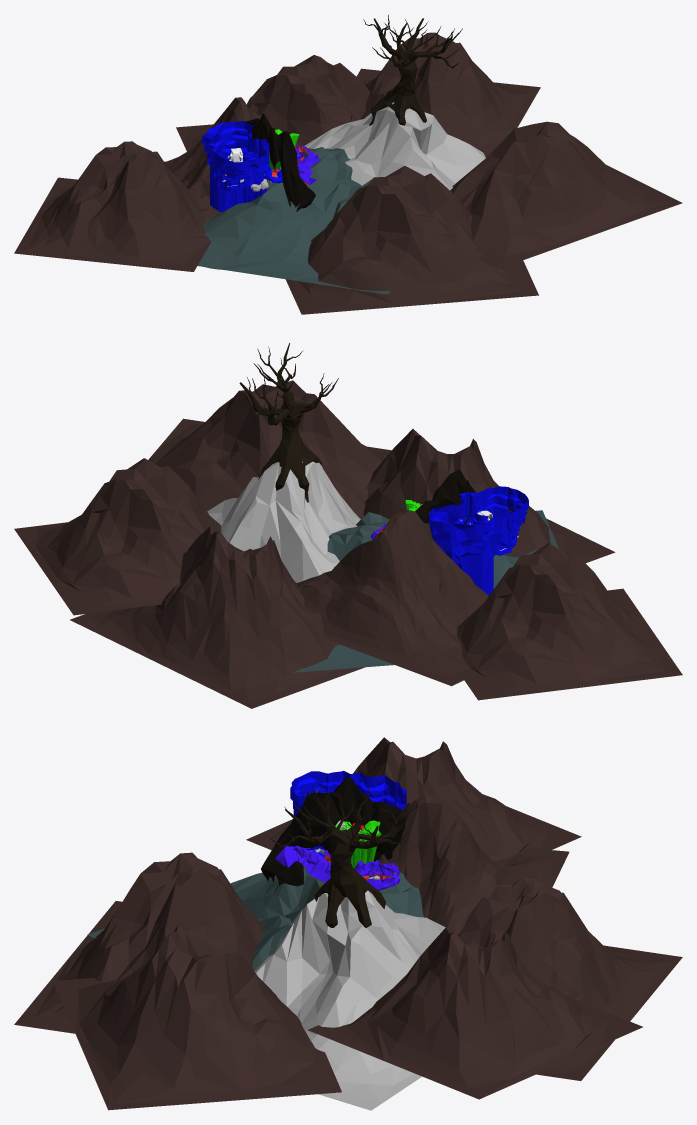
File: Integrate.FBX
3 views of the same model, one above another, from view 1: azimuth 30°, elevation 25°; view 2: azimuth 150°, elevation 25°; view 3: azimuth 270°, elevation 25° (orthographic). The views are drawn at different scales.
Visible parts, largest first — view 1: Mountain, WorldTreeMountain, Stage2, WorldTree, Stage2-3, Stage2_Revert, Stage1; view 2: Mountain, WorldTreeMountain, Stage2, WorldTree, Stage2_Revert, Stage2-3; view 3: Mountain, WorldTreeMountain, Stage2-3, WorldTree, Stage2, Stage1, Stage2_Revert, Stage3.
Boxes of the visible parts, left/top/right/bottom form: Mountain: left=14, top=32, right=682, bottom=314; WorldTreeMountain: left=304, top=102, right=485, bottom=190; Stage2: left=201, top=121, right=282, bottom=211; WorldTree: left=363, top=14, right=462, bottom=125; Stage2-3: left=245, top=113, right=315, bottom=211; Stage2_Revert: left=202, top=121, right=282, bottom=211; Stage1: left=271, top=144, right=319, bottom=184; Mountain: left=14, top=380, right=682, bottom=708; WorldTreeMountain: left=207, top=461, right=360, bottom=582; Stage2: left=428, top=486, right=528, bottom=595; WorldTree: left=239, top=343, right=338, bottom=502; Stage2_Revert: left=429, top=486, right=527, bottom=594; Stage2-3: left=415, top=469, right=475, bottom=523; Mountain: left=14, top=737, right=682, bottom=1110; WorldTreeMountain: left=254, top=890, right=445, bottom=1110; Stage2-3: left=261, top=777, right=405, bottom=886; WorldTree: left=270, top=787, right=418, bottom=927; Stage2: left=290, top=771, right=406, bottom=858; Stage1: left=275, top=846, right=400, bottom=890; Stage2_Revert: left=290, top=771, right=406, bottom=855; Stage3: left=335, top=820, right=381, bottom=868.
Size of the model in its own units: 1492 by 1216 by 465.
